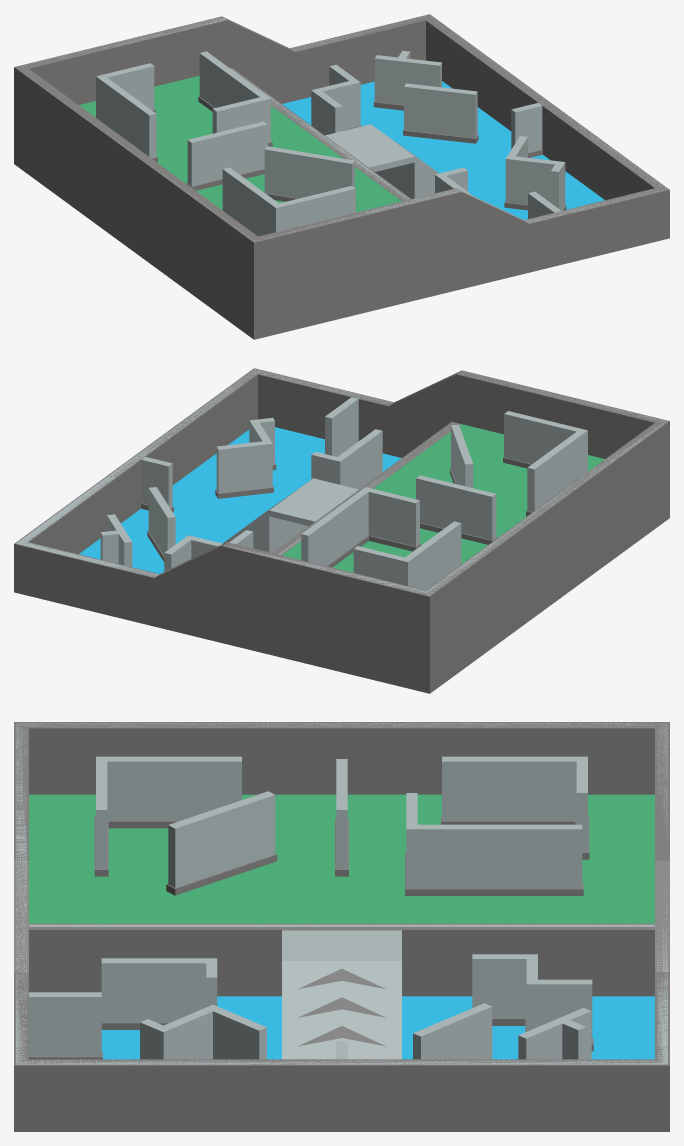
Rendered from Location9.fbx.
3 renders of one model, top to bottom at view 1: azimuth 30°, elevation 25°; view 2: azimuth 150°, elevation 25°; view 3: azimuth 270°, elevation 25°, orthographic. The views are drawn at different scales.
Parts seen in each view (by area): view 1: outer_wall.09, wall.09, water.09, floor.09, bridge.09; view 2: outer_wall.09, wall.09, water.09, floor.09, bridge.09; view 3: outer_wall.09, wall.09, floor.09, bridge.09, water.09.
Boxes of the visible parts, left/top/right/bottom form: outer_wall.09: left=14, top=14, right=669, bottom=339; wall.09: left=17, top=16, right=666, bottom=241; water.09: left=282, top=81, right=604, bottom=219; floor.09: left=79, top=75, right=401, bottom=212; bridge.09: left=325, top=124, right=438, bottom=198; outer_wall.09: left=14, top=368, right=669, bottom=693; wall.09: left=16, top=369, right=667, bottom=595; water.09: left=79, top=427, right=401, bottom=573; floor.09: left=282, top=424, right=604, bottom=572; bridge.09: left=223, top=478, right=358, bottom=552; outer_wall.09: left=14, top=722, right=669, bottom=1131; wall.09: left=16, top=723, right=667, bottom=1064; floor.09: left=29, top=794, right=654, bottom=923; bridge.09: left=282, top=930, right=401, bottom=1059; water.09: left=101, top=996, right=654, bottom=1059.
Size of the model in its own units: 1638 by 365 by 1638.
